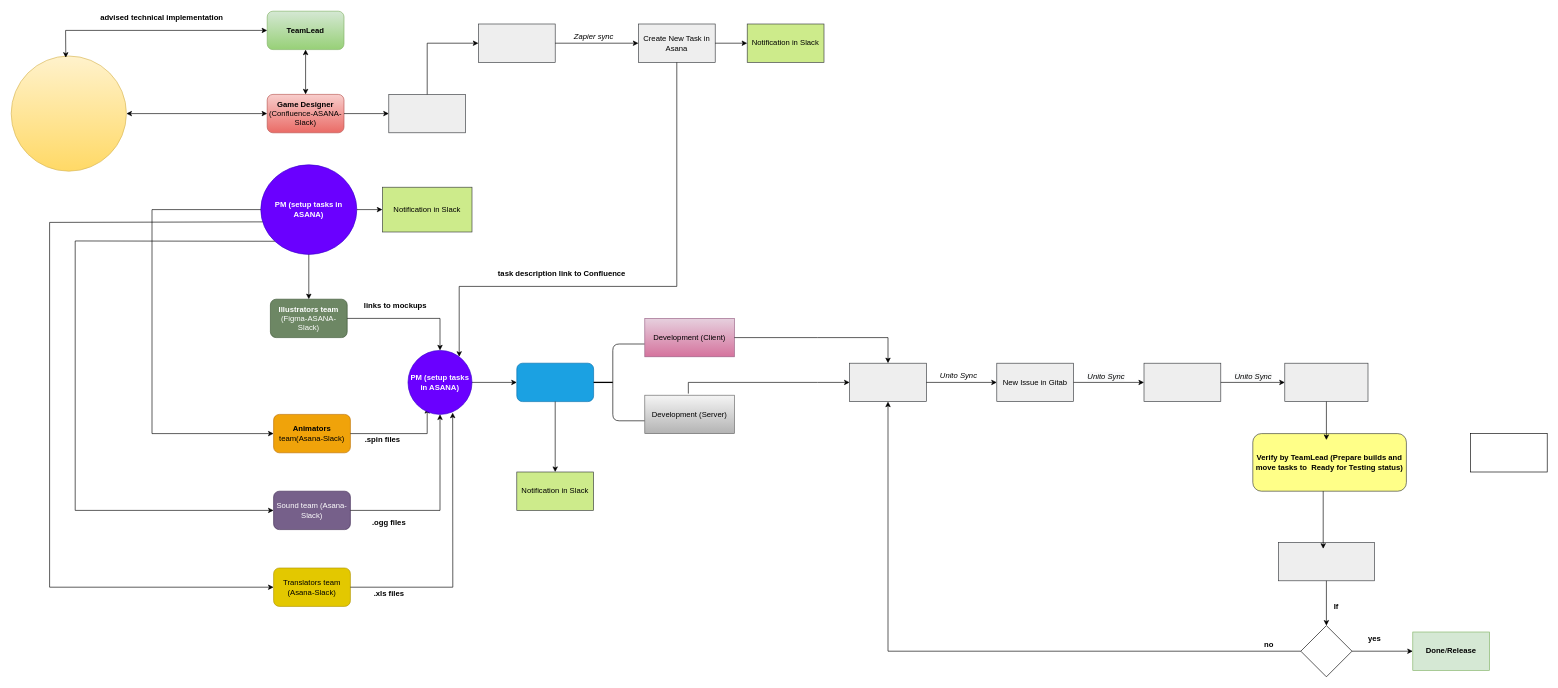
Some shapes in this 1558 by 688 pixel diagram are drawn without their labels. Each missing label, with the centre of its shape:
"Create new page" belongs at point (516, 42).
"Create Task / Bug in Asana ( Open )" belongs at point (887, 382).
"Developers (GitLab-Asana-Slack)" belongs at point (555, 382).
"Idea/Requirements (CEO)" belongs at point (68, 113).
"move to QA in testing and start Testing (Q&A)" belongs at point (1326, 561).
"Preppare description in Confluence" belongs at point (427, 113).
"Pull Request in Gitlab" belongs at point (1182, 382).
"Success" belongs at point (1326, 651).
"Task move to ASANA( Dev Review)" belongs at point (1326, 382).
